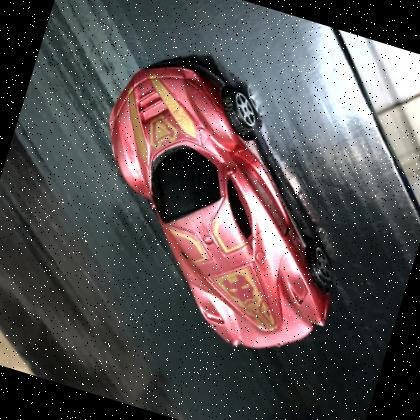Car: (108, 56, 332, 349)
